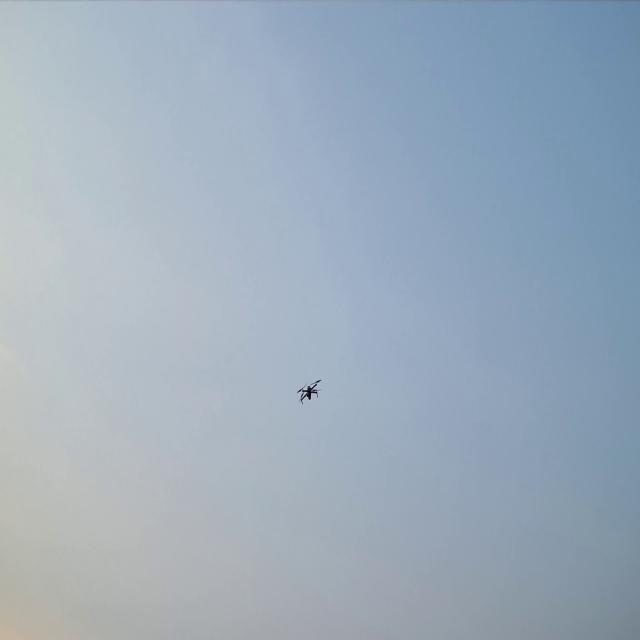UAV: (298, 380, 320, 402)
